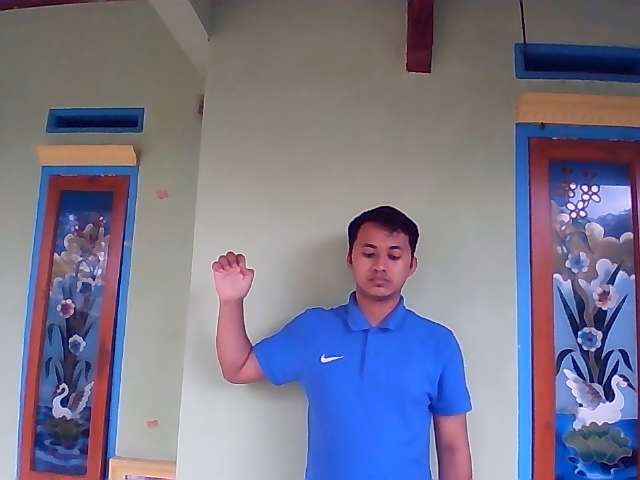E: (211, 250, 255, 302)
